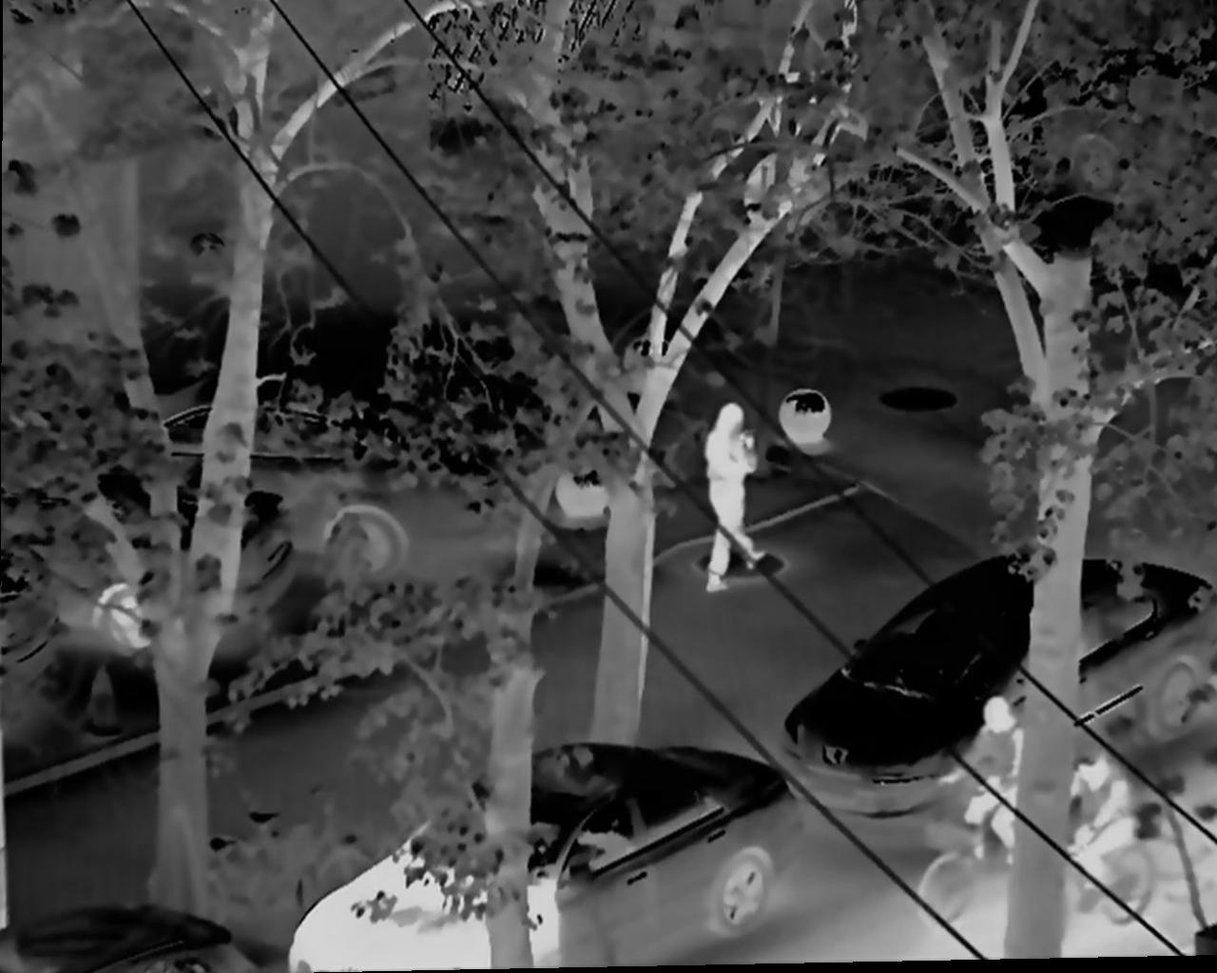person: (696, 403, 771, 596), (936, 694, 1021, 861), (1072, 749, 1145, 902)
